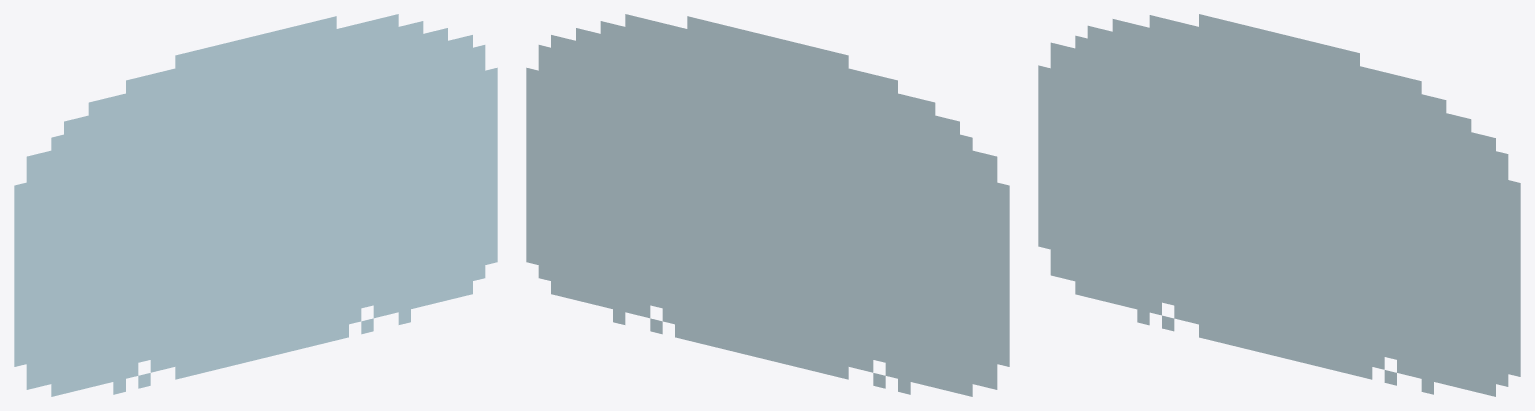
File: wp_water_114.obj
3 renders of one model, left to right at view 1: azimuth 30°, elevation 25°; view 2: azimuth 150°, elevation 25°; view 3: azimuth 330°, elevation 25°, orthographic.
Size of the model in its own units: 0.585 by 0.375 by 0.
Materials: 1 (1 with a texture image).
